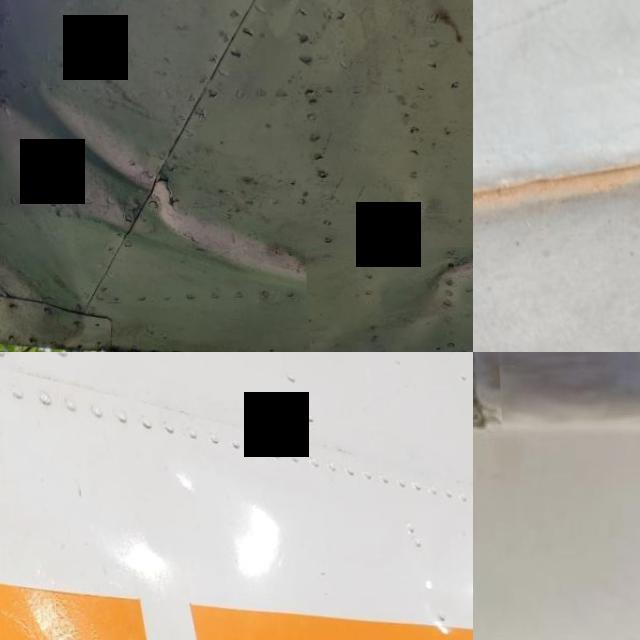Crack: (473, 352, 498, 436), (152, 176, 178, 218)
Dent: (0, 52, 304, 303), (300, 249, 473, 352)
